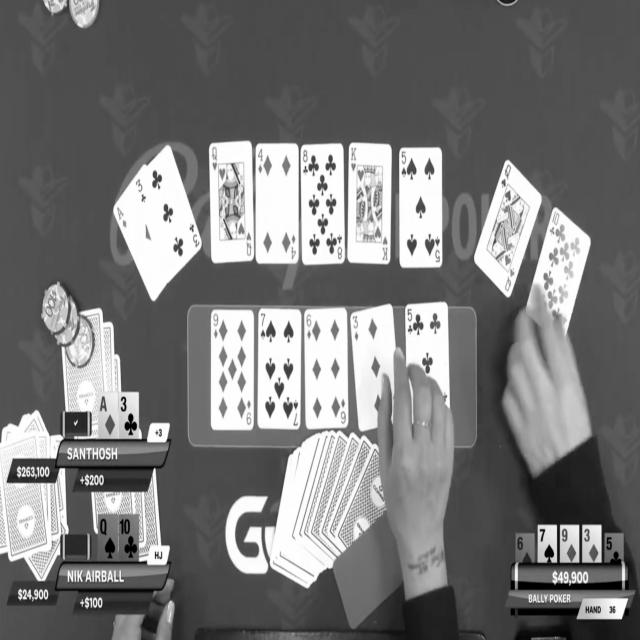10C: (118, 514, 139, 562)
3C: (120, 392, 140, 438)
3D: (582, 525, 603, 561)
5C: (604, 534, 624, 564)
6D: (515, 532, 536, 566)
7S: (538, 524, 558, 564)
9D: (560, 523, 580, 562)
AD: (98, 392, 119, 441)
QS: (97, 512, 118, 562)
